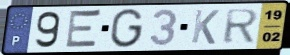3: (148, 8, 179, 48)
9: (34, 11, 62, 49)
E: (63, 8, 104, 50)
G: (108, 7, 146, 50)
K: (189, 8, 221, 46)
R: (222, 8, 261, 46)
